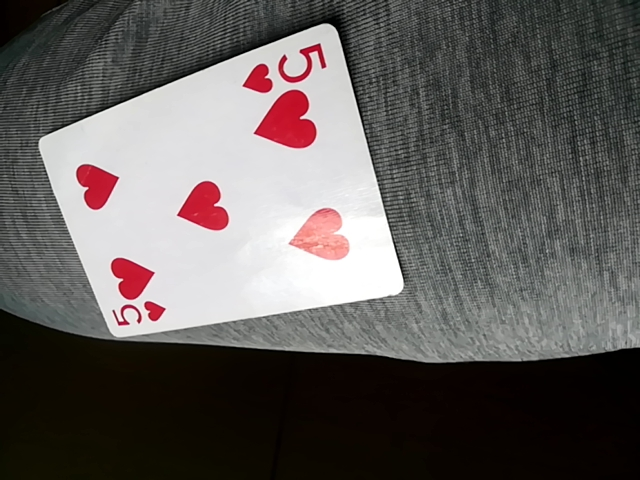hx 5: (44, 23, 408, 345)
